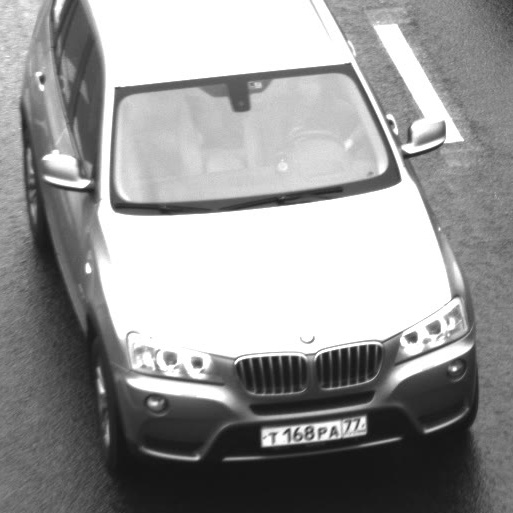plate: (249, 403, 376, 455)
